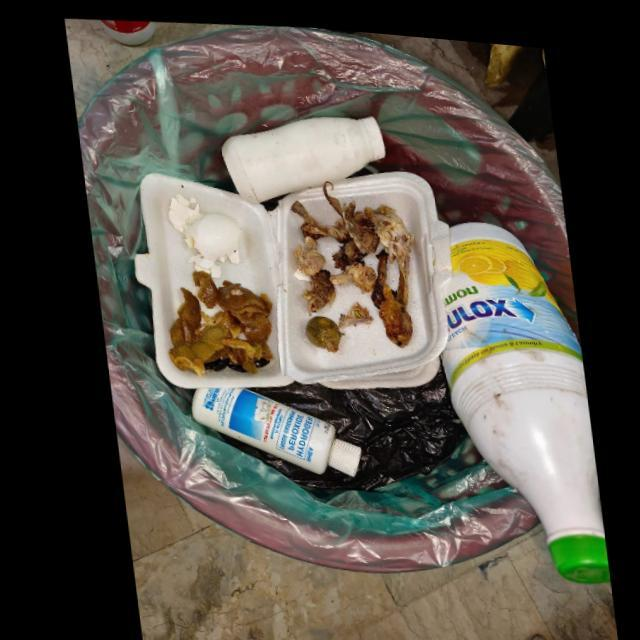left_over_food: (321, 181, 411, 341), (287, 196, 373, 286), (290, 231, 332, 311), (334, 296, 369, 322)
plastic_bottle: (436, 214, 603, 577), (185, 384, 355, 471), (219, 110, 384, 199)
